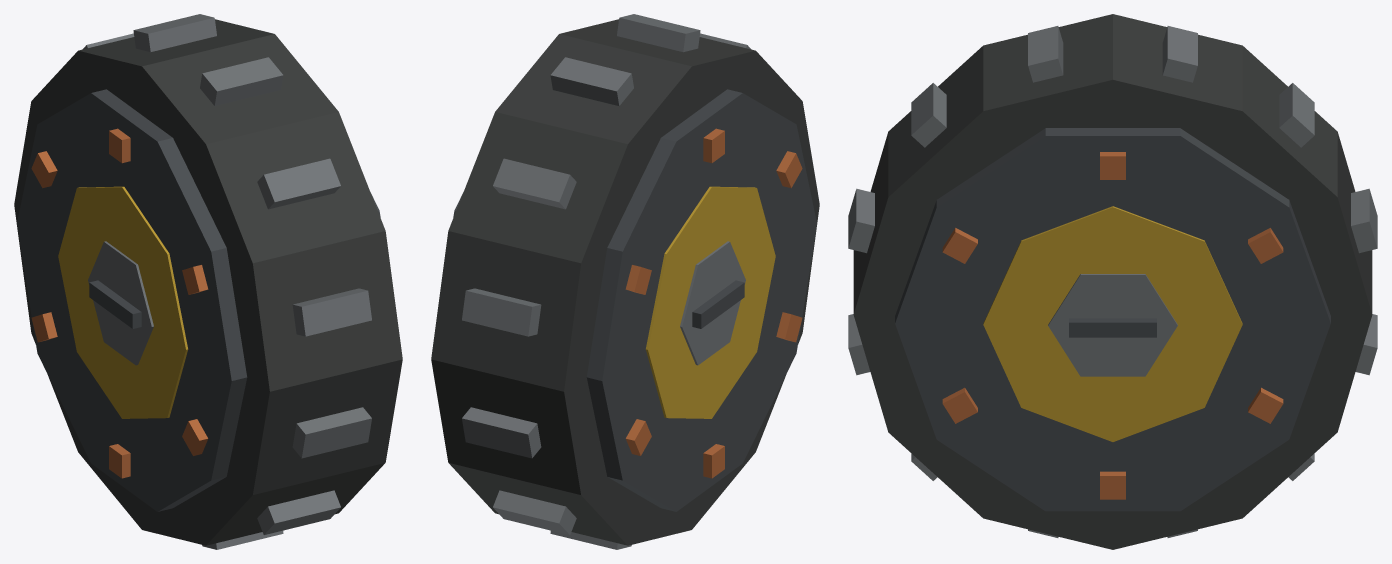
The model's file is upg_tyres_runflat.glb.
The picture shows the model from 3 angles, left to right: view 1: azimuth 30°, elevation 25°; view 2: azimuth 150°, elevation 25°; view 3: azimuth 270°, elevation 25°; orthographic projection.
Parts seen in each view (by area): view 1: tyre; view 2: tyre; view 3: tyre.
Part boxes in pixels (x1,y1,x2,y2): tyre: [14, 14, 402, 549]; tyre: [431, 14, 819, 549]; tyre: [848, 14, 1377, 549].
Size of the model in its own units: 0.44 by 1.02 by 1.02.
